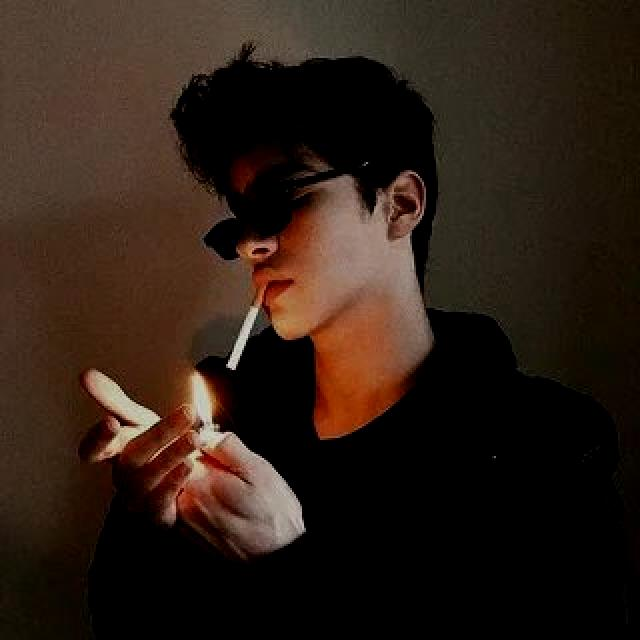cigarette: (222, 280, 272, 376)
